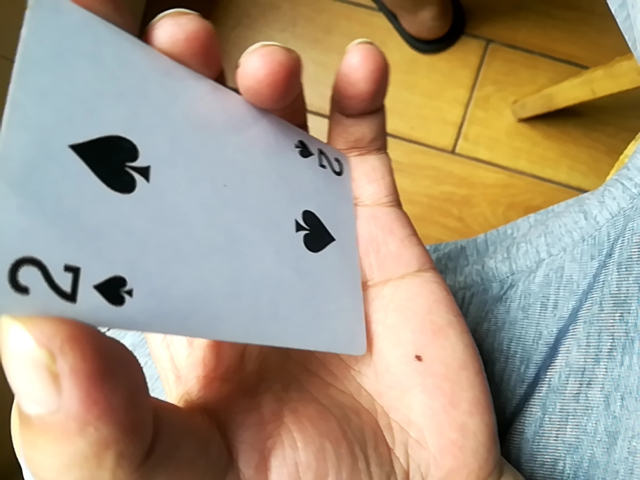ht 2: (5, 2, 374, 367)
